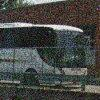buses: (0, 21, 95, 91)
